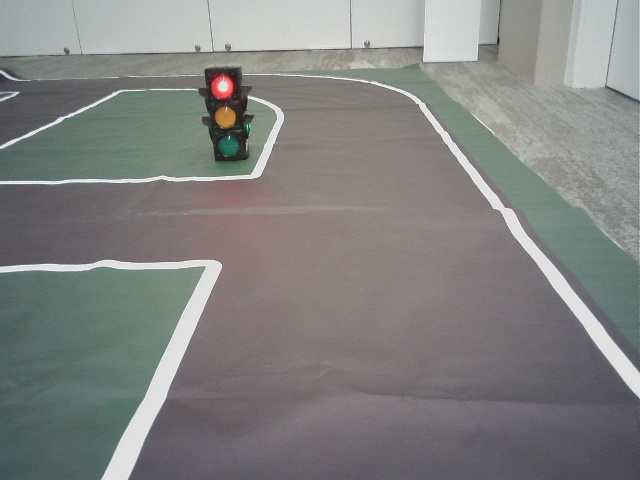red: (204, 69, 245, 158)
